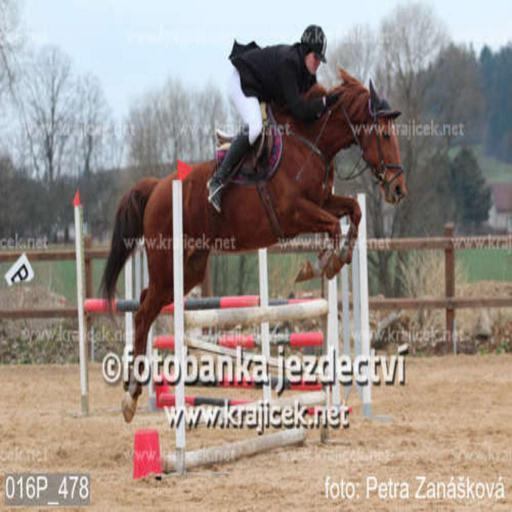horse: (94, 66, 407, 424)
